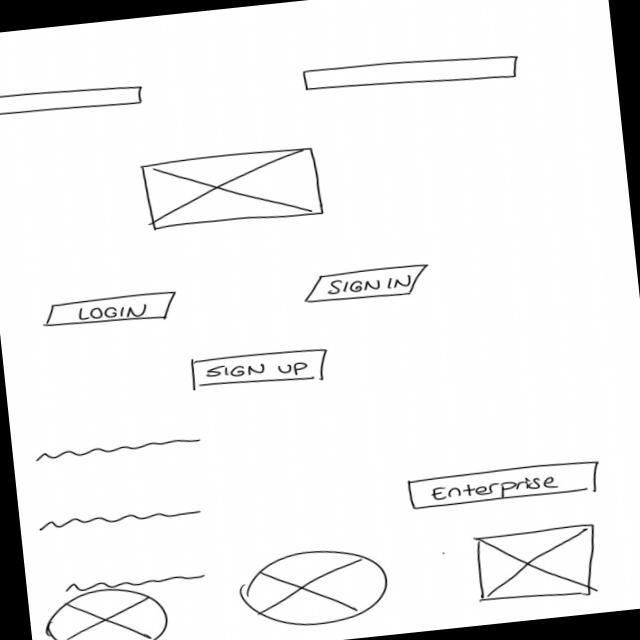button: (406, 456, 602, 512), (188, 344, 334, 396), (40, 287, 180, 332), (300, 261, 434, 306)
image: (138, 143, 327, 235), (234, 542, 393, 633), (471, 519, 604, 607), (40, 581, 172, 640)
input: (300, 44, 522, 102), (0, 79, 143, 122)
text: (30, 434, 204, 464), (34, 503, 202, 533), (62, 568, 206, 593)
